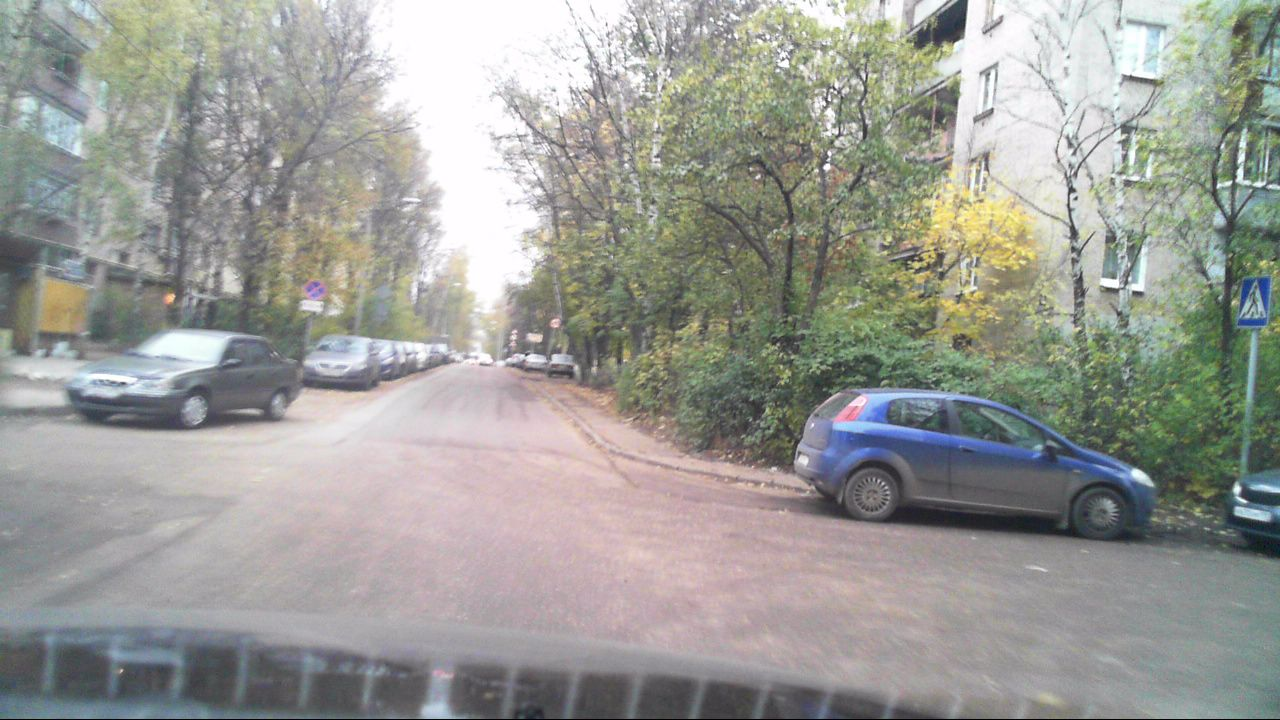No Parking: (303, 279, 324, 299)
